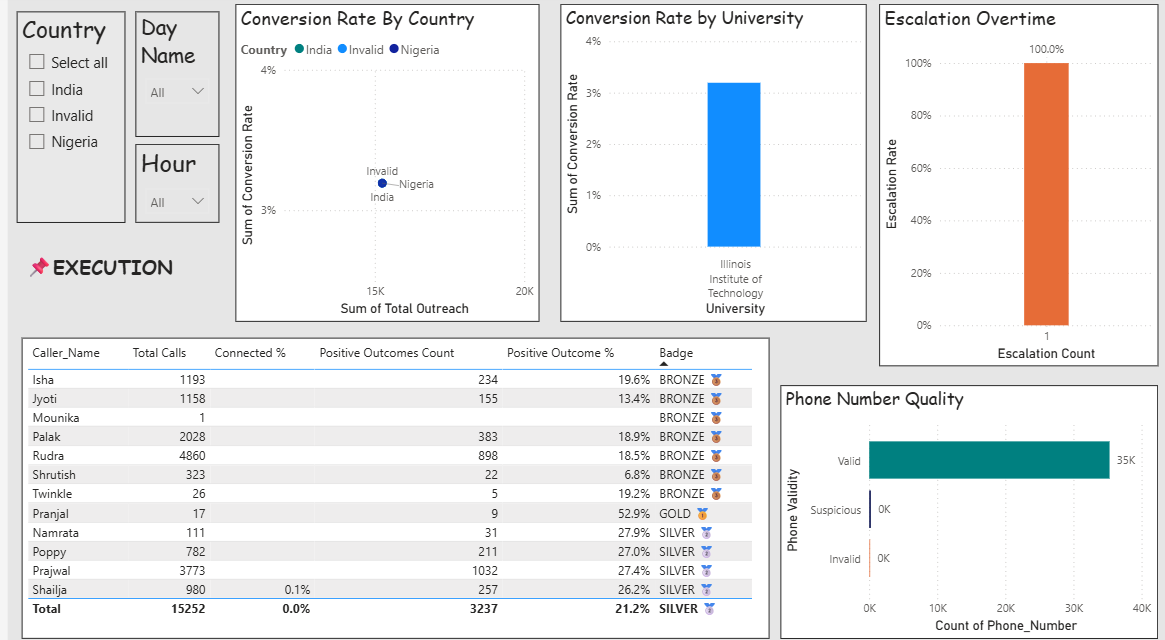

The dashboard page shown, as its layout file describes it:
{"tool":"powerbi","page":{"name":"Page 2","canvas":[1280,720],"ordinal":1},"visuals":[{"type":"tableEx","title":"Caller Leaderboard ","fields":{"Values":["outreach_dataset.Caller_Name","DimUniversity.Total Calls","DimUniversity.Connected %","DimUniversity.Positive Outcomes Count","DimUniversity.Positive Outcome %","DimUniversity.Badge"]},"box":[15.1,377.4,820.6,330.7],"z":1000},{"type":"lineStackedColumnComboChart","title":"Escalation Overtime ","fields":{"Y":["DimUniversity.Escalation Rate"],"Category":["outreach_dataset.Escalation Count"]},"box":[956.4,11,306,397.9],"z":2000},{"type":"clusteredBarChart","title":"Phone Number Quality","fields":{"Y":["CountNonNull(Table1 (2).Phone_Number)"],"Category":["Table1 (2).Phone Validity"]},"box":[848,429.5,414.4,278.6],"z":3000},{"type":"scatterChart","title":"Conversion Rate By Country","fields":{"X":["Sum(DimUniversity.Total Outreach)"],"Y":["Sum(DimUniversity.Conversion Rate)"],"Series":["Table1 (2).Country"]},"box":[249.7,11,333.4,348.5],"z":4000},{"type":"slicer","title":"Country","fields":{"Values":["Table1 (2).Country"]},"box":[9.6,19.2,119.4,231.9],"z":4001},{"type":"slicer","title":"Hour","fields":{"Values":["outreach_dataset.Hour"]},"box":[140,164.7,91.9,86.4],"z":4002},{"type":"slicer","title":"Day Name ","fields":{"Values":["outreach_dataset.Day Name"]},"box":[140,19.2,91.9,137.2],"z":4003},{"type":"columnChart","title":"Conversion Rate by University","fields":{"Category":["DimUniversity.University"],"Y":["Sum(DimUniversity.Conversion Rate)"]},"box":[606.5,11,336.2,348.5],"z":4004},{"type":"textbox","box":[15.1,262.1,207.2,97.4],"z":4005}]}

Visuals, with their boxes in screenshot pixels (x1, y1, x2, y2), scaled from the page's 1280x720 canvas onto the 1165x640 screenshot:
"Caller Leaderboard " tableEx: [x1=14, y1=335, x2=761, y2=629]
"Escalation Overtime " lineStackedColumnComboChart: [x1=870, y1=10, x2=1149, y2=363]
"Phone Number Quality" clusteredBarChart: [x1=772, y1=382, x2=1149, y2=629]
"Conversion Rate By Country" scatterChart: [x1=227, y1=10, x2=531, y2=320]
"Country" slicer: [x1=9, y1=17, x2=117, y2=223]
"Hour" slicer: [x1=127, y1=146, x2=211, y2=223]
"Day Name " slicer: [x1=127, y1=17, x2=211, y2=139]
"Conversion Rate by University" columnChart: [x1=552, y1=10, x2=858, y2=320]
textbox: [x1=14, y1=233, x2=202, y2=320]
